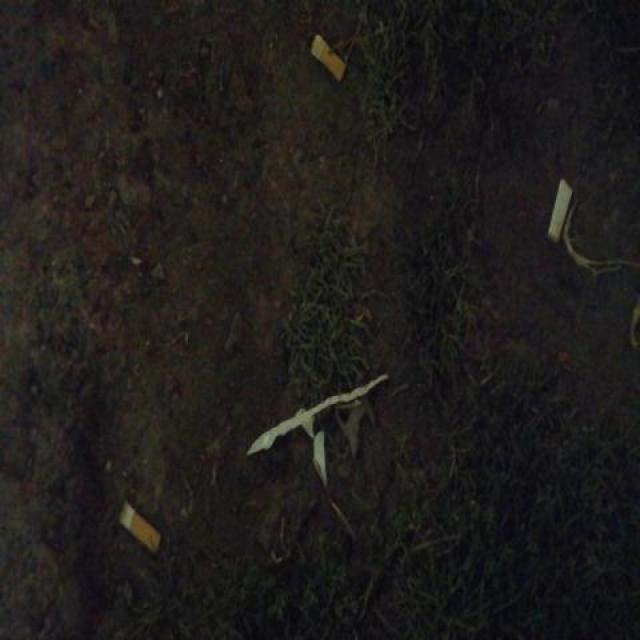non-organic waste: (114, 499, 165, 560), (303, 28, 349, 85), (543, 172, 577, 249)
